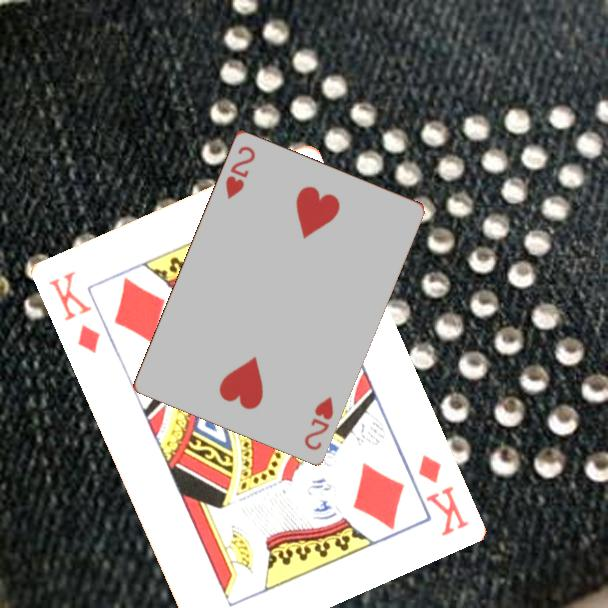d13: (44, 267, 103, 356), (413, 451, 472, 539)
h02: (300, 392, 336, 453), (222, 142, 258, 202)
